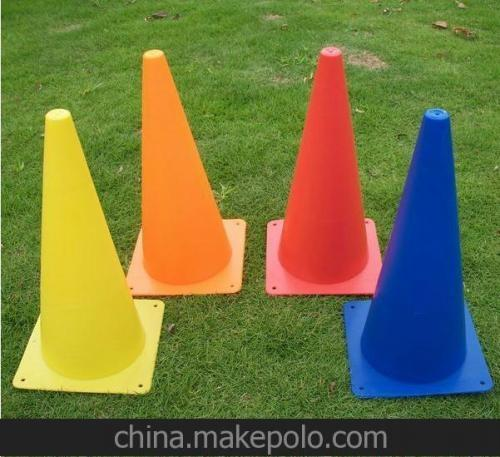cone_barrel: (13, 107, 146, 387), (353, 115, 488, 386), (122, 43, 239, 292), (273, 51, 378, 287)
